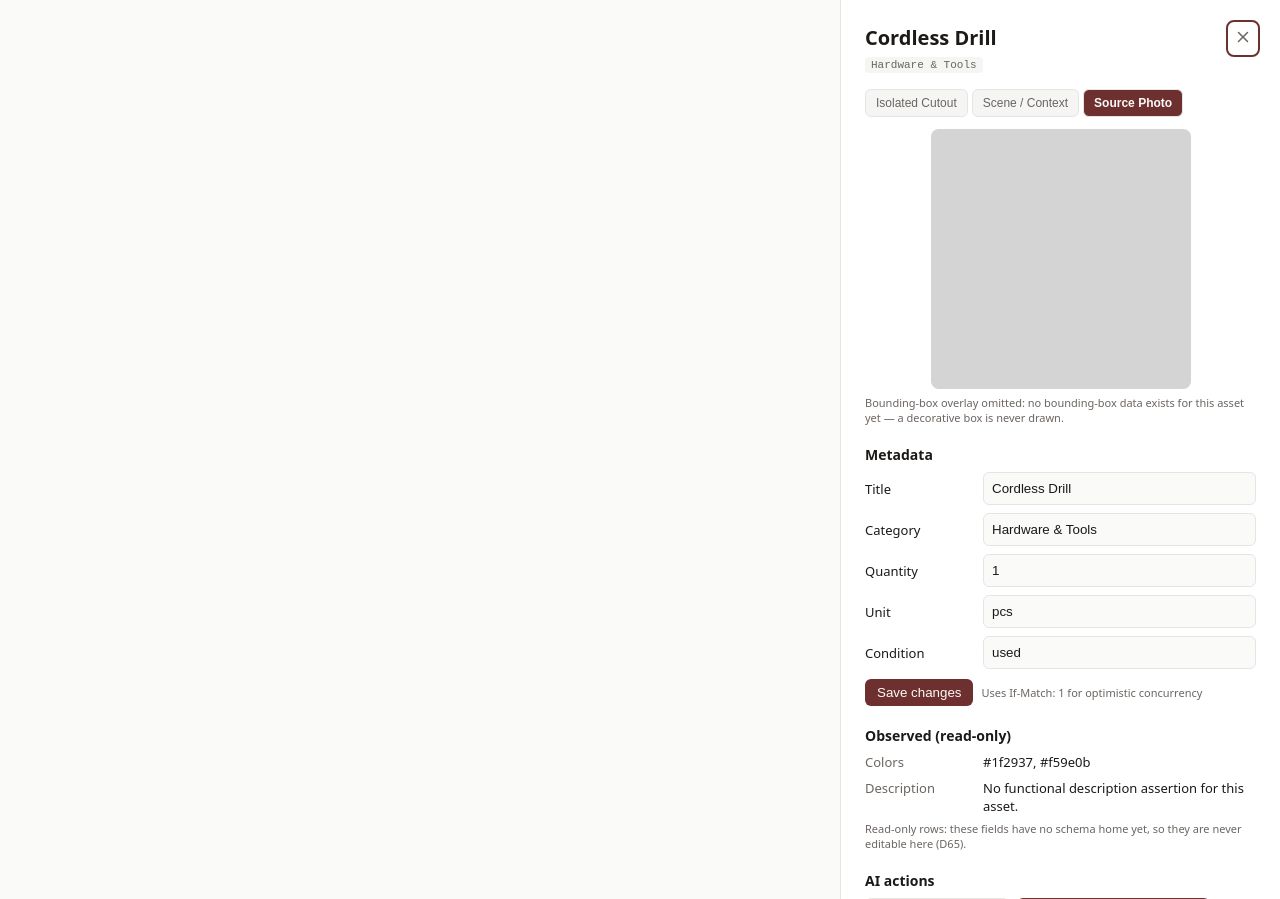
Test: ItemInspectorDrawer › the cutout tab states cutouts are not available, with no spinner
Click the tab "Isolated Cutout".
click(916, 103)  # box [865,89,968,117]
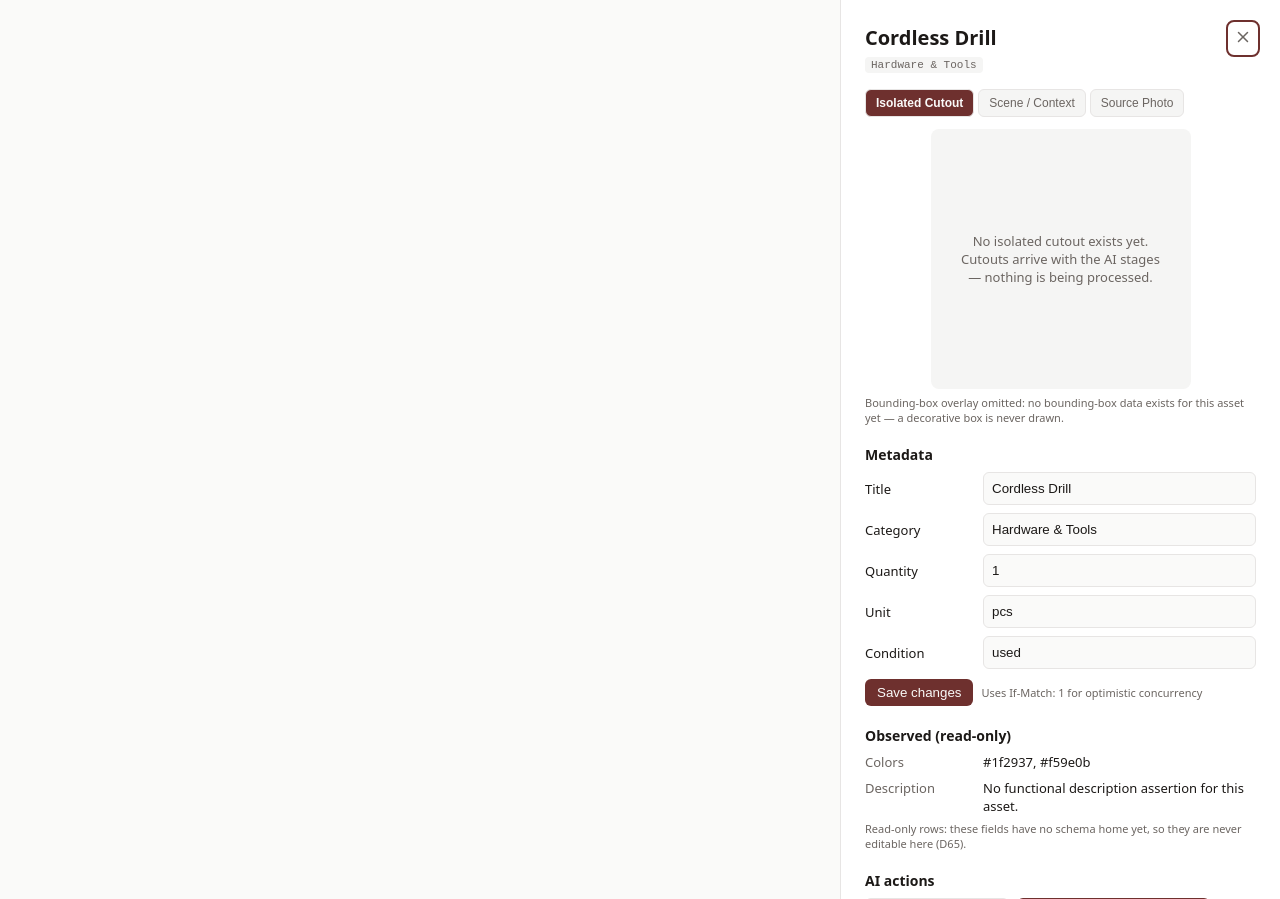
Now the text with test id "cutout-honest-state" shows "Cutouts arrive with the AI stages", box [961,232,1160,286]
Now the picture with test id "source-image" is gone
